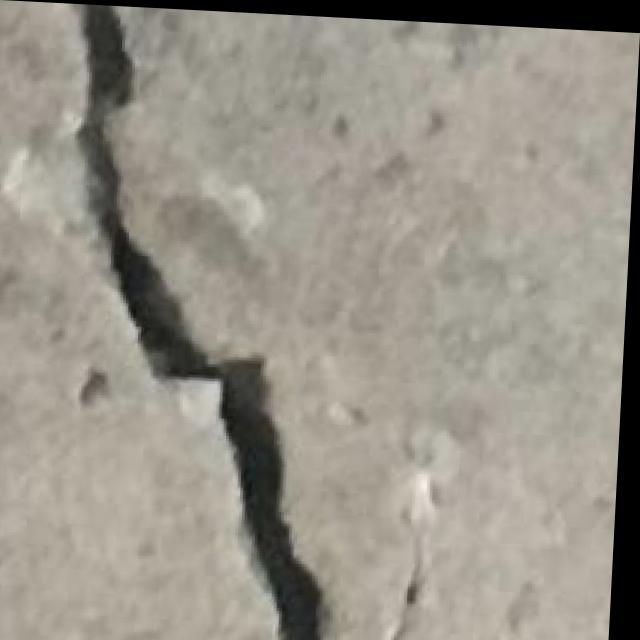Crack: (28, 3, 366, 640)
